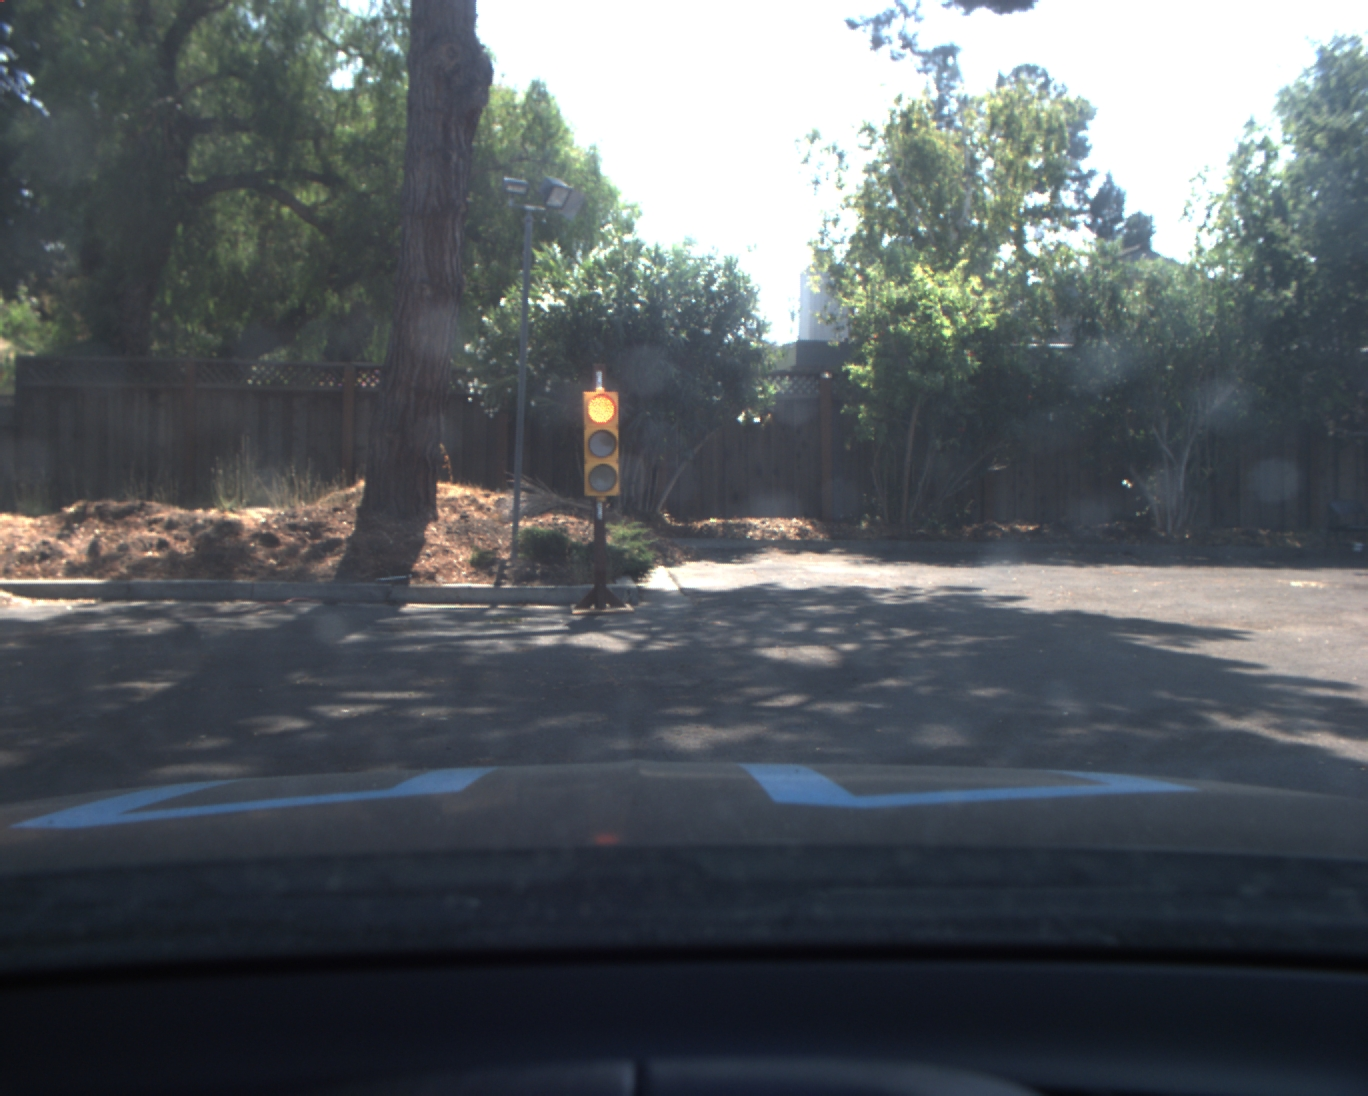red: (585, 388, 618, 495)
